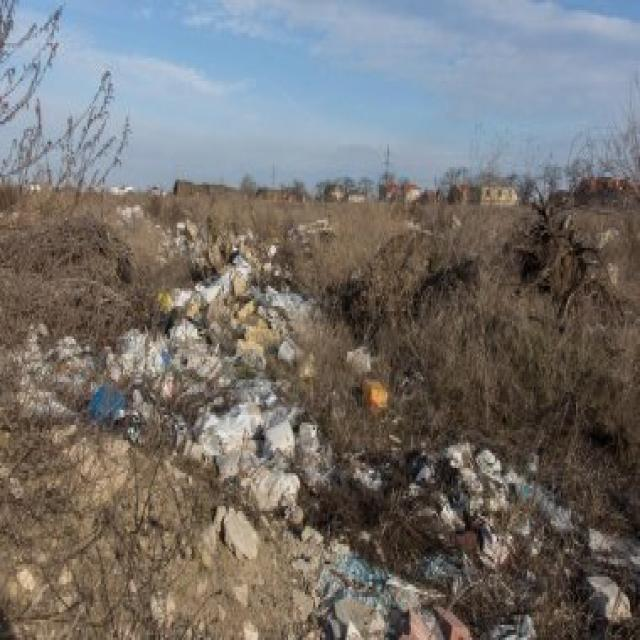garbage: (134, 184, 573, 599)
